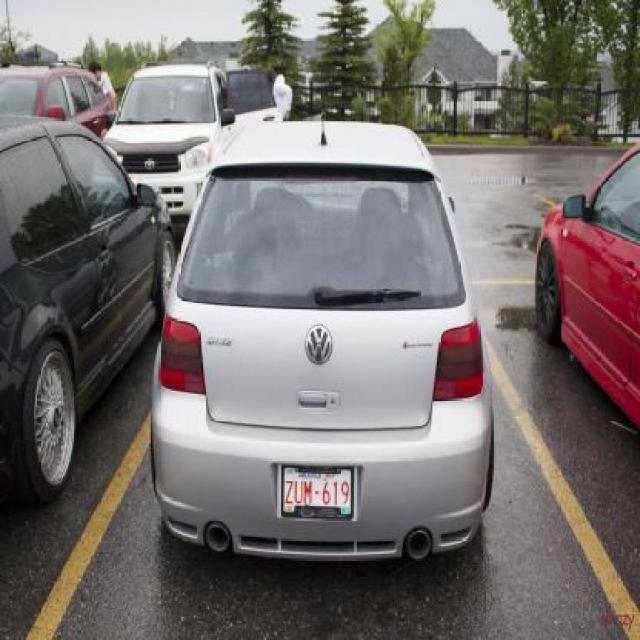Licenseplate: (274, 457, 360, 516)
